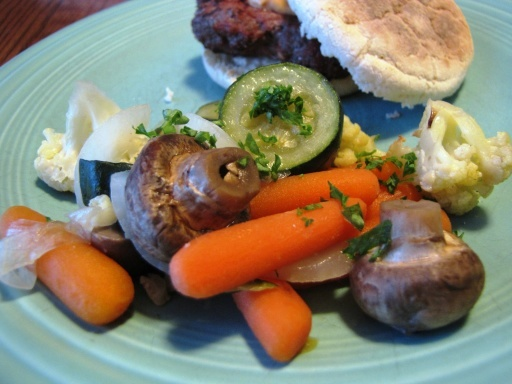background: (0, 0, 410, 218)
